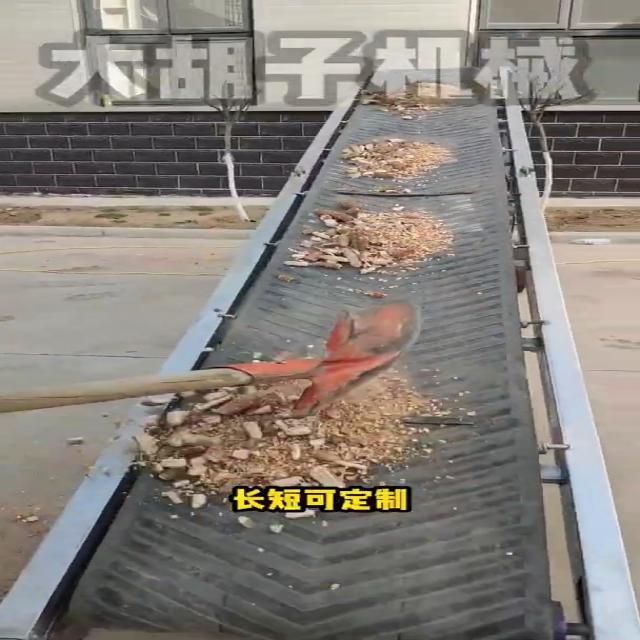Convoyeur: (8, 72, 640, 640)
